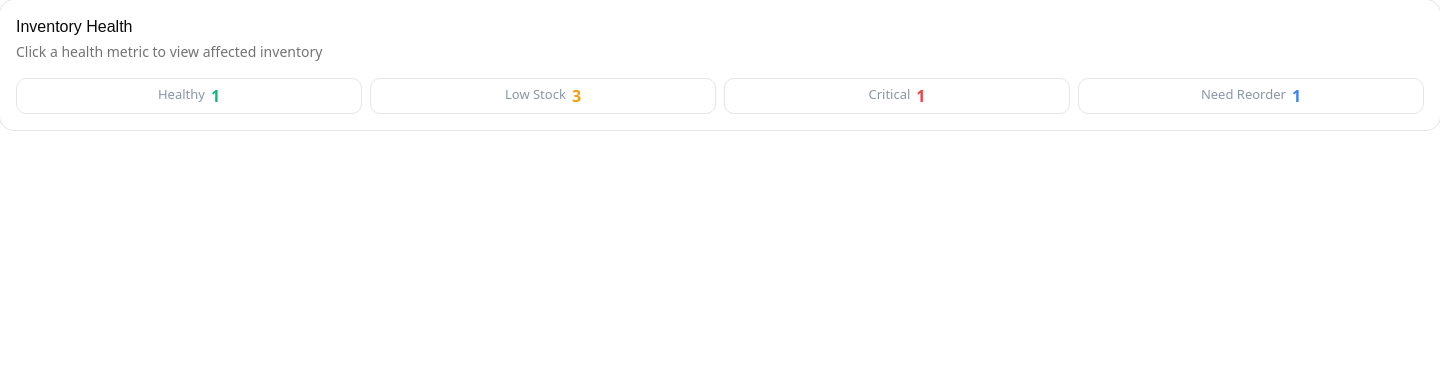
InventoryHealth › filters low stock inventory
Click the button "Low Stock 3": point(543, 96) [370,78,716,114]
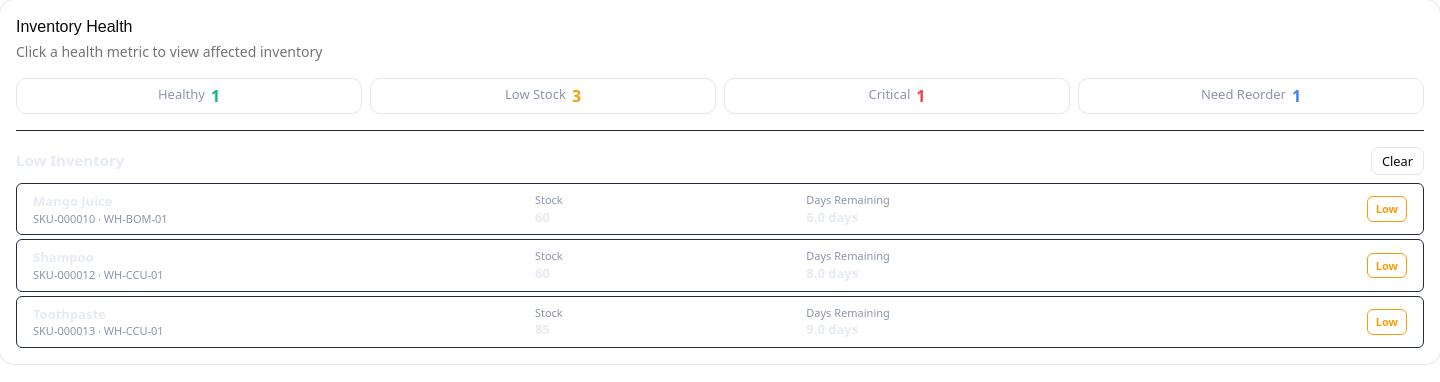
expect the heading "Low Inventory" is shown: met, box [16,150,124,172]
expect the text "Mango Juice" is shown: met, box [33,192,112,210]
expect the text "Shampoo" is shown: met, box [33,248,94,266]
